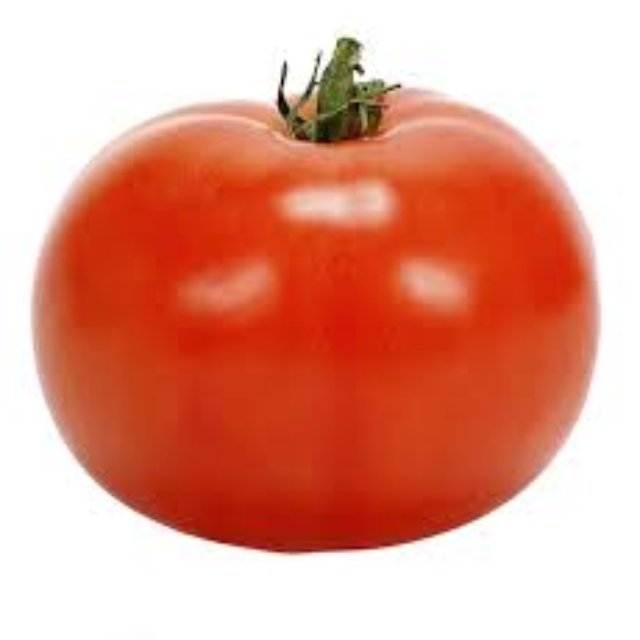tomato: (28, 46, 593, 554)
